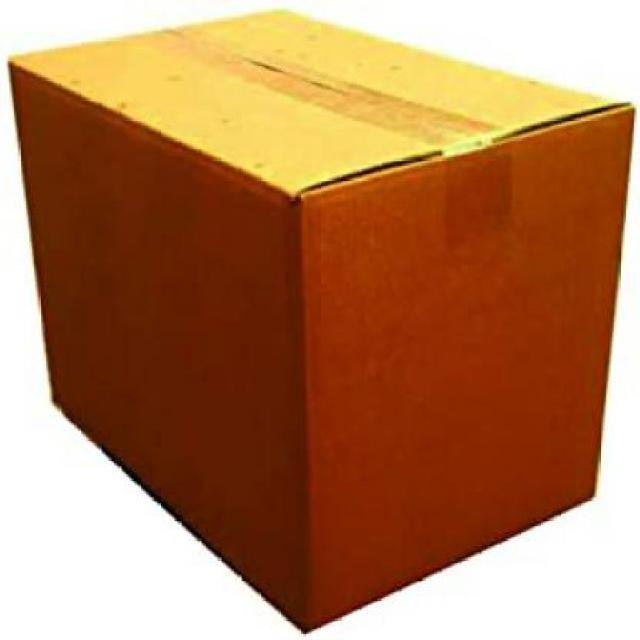box: (7, 7, 637, 634)
